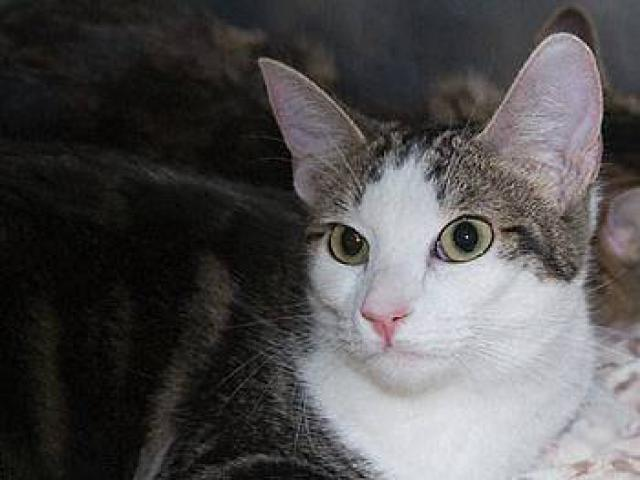cat: (173, 38, 619, 479)
